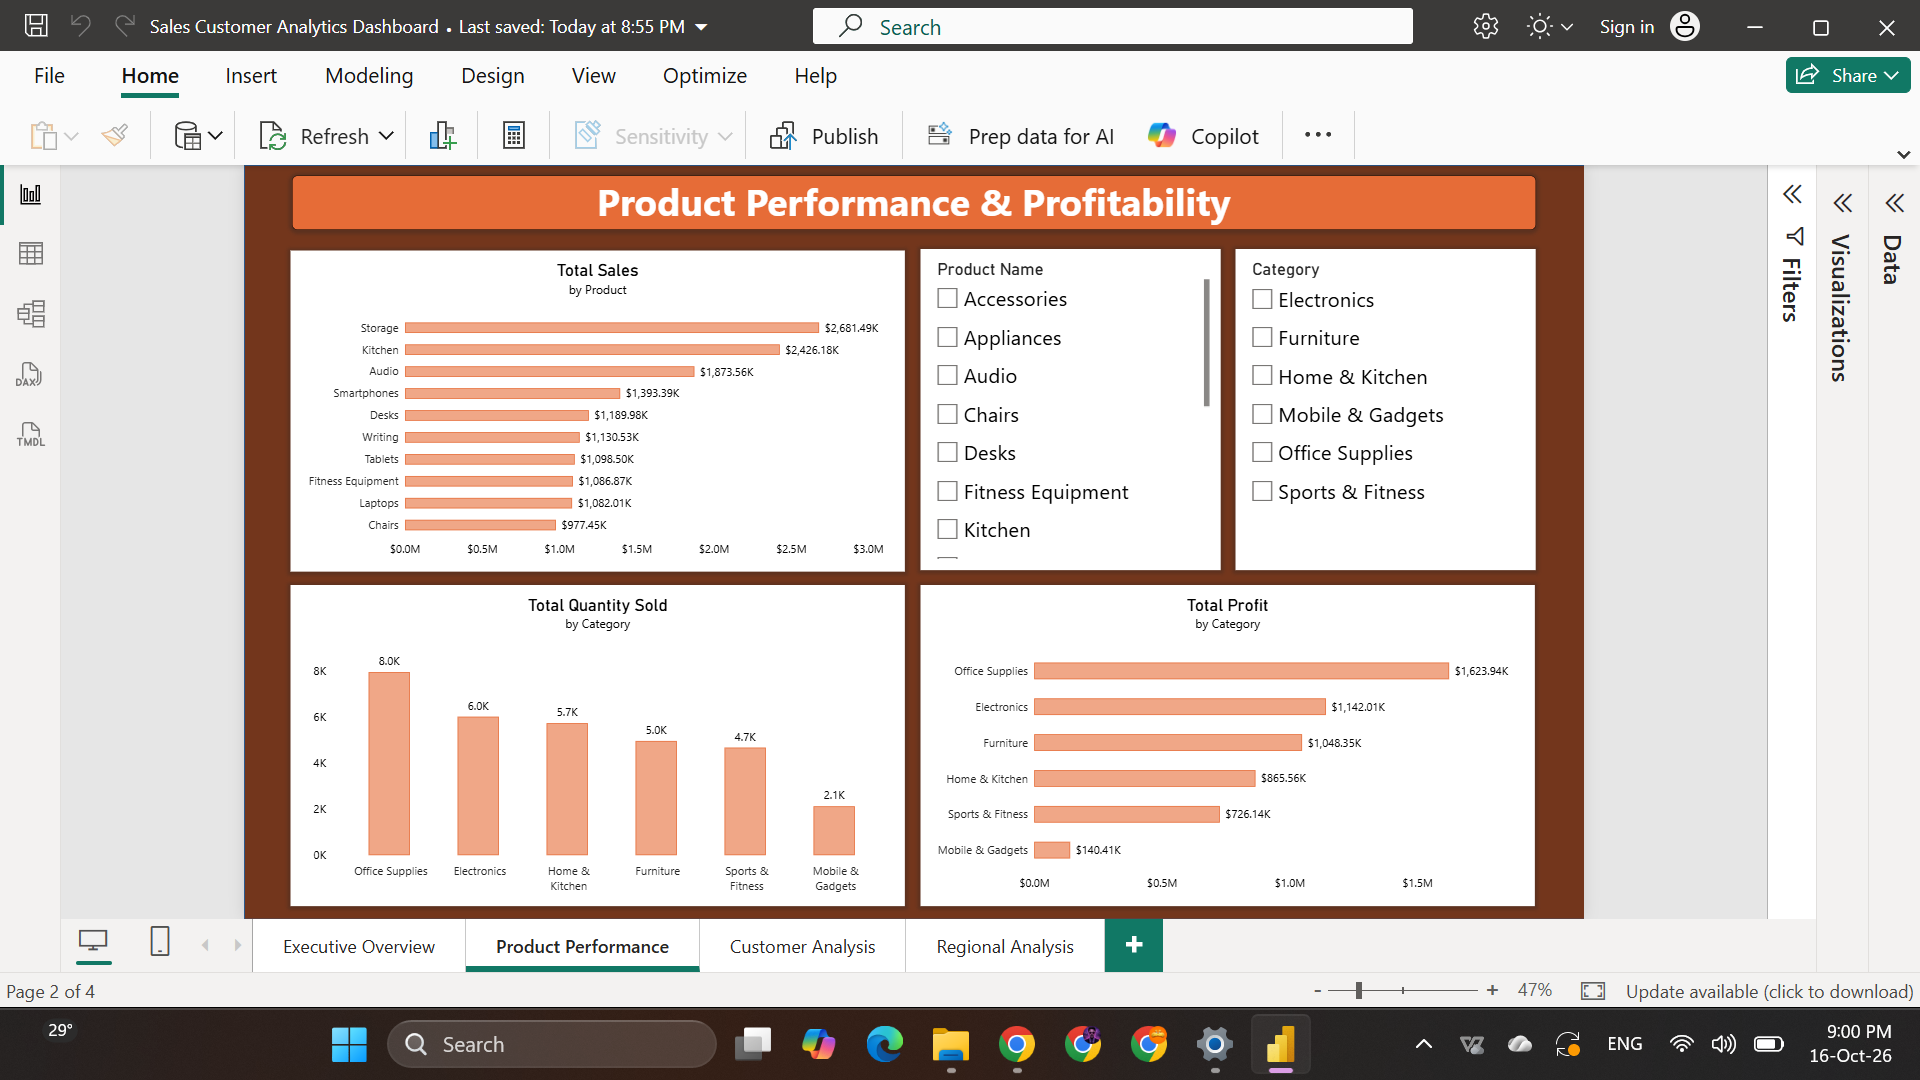

What the dashboard file says about the page in this screenshot:
{"tool":"powerbi","page":{"name":"Product Performance","canvas":[1920,1080],"ordinal":1},"visuals":[{"type":"shape","box":[0,0,1920.8,1080.7],"z":0},{"type":"textbox","box":[68,16,1782,78],"z":1000},{"type":"clusteredBarChart","fields":{"Category":["Product Master.Product Name"],"Y":["Raw Sales Data.Total Sales"]},"box":[67.5,122.5,880,460],"z":2000},{"type":"clusteredBarChart","fields":{"Category":["Product Master.Category"],"Y":["Raw Sales Data.Total Profit"]},"box":[970,602.5,880,460],"z":3000},{"type":"clusteredColumnChart","fields":{"Category":["Product Master.Category"],"Y":["Raw Sales Data.Total Quantity Sold"]},"box":[67.5,602.5,880,460],"z":4000},{"type":"slicer","fields":{"Values":["Product Master.Category"]},"box":[1420,120,430,460],"z":5000},{"type":"slicer","fields":{"Values":["Product Master.Product Name"]},"box":[970,120,430,460],"z":6000}]}

Visuals, with their boxes on the page's 1920x1080 design canvas (x1, y1, x2, y2). These are canvas units, not pixel positions in the 1920x1080 screenshot, which may show the page scaled, cropped or inside an application window:
shape: l=0, t=0, r=1921, b=1081
textbox: l=68, t=16, r=1850, b=94
clusteredBarChart - Product Master.Product Name x Raw Sales Data.Total Sales: l=68, t=122, r=948, b=582
clusteredBarChart - Product Master.Category x Raw Sales Data.Total Profit: l=970, t=602, r=1850, b=1062
clusteredColumnChart - Product Master.Category x Raw Sales Data.Total Quantity Sold: l=68, t=602, r=948, b=1062
slicer - Product Master.Category: l=1420, t=120, r=1850, b=580
slicer - Product Master.Product Name: l=970, t=120, r=1400, b=580
